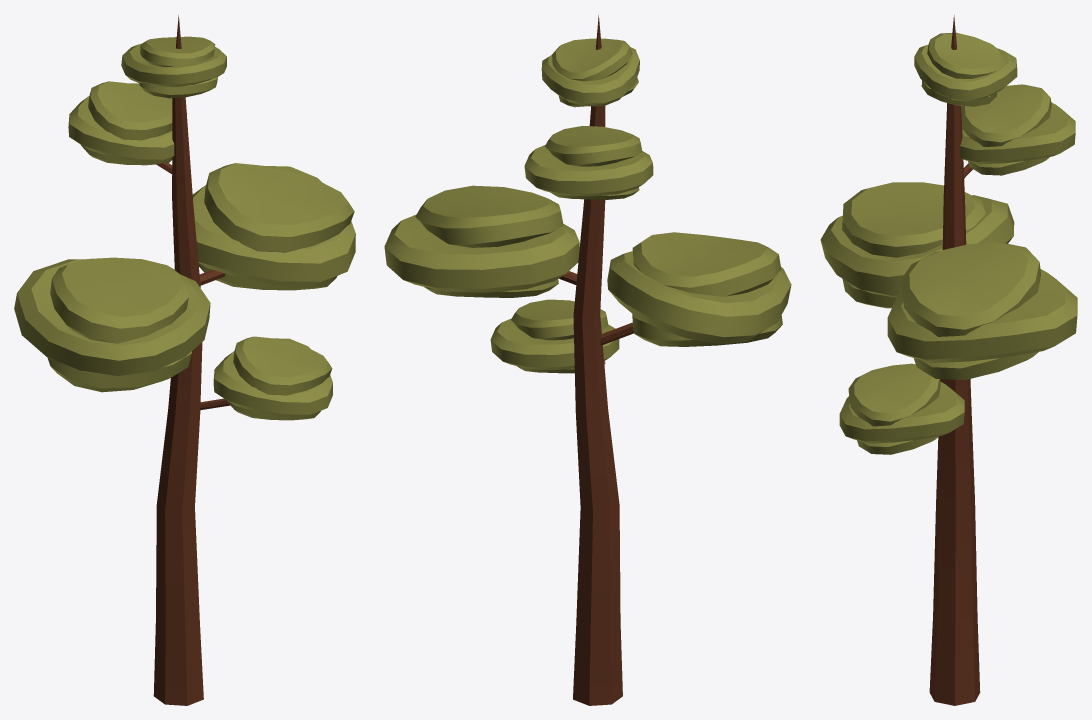
The model's file is TallPine.fbx.
The picture shows the model from 3 angles, left to right: view 1: azimuth 30°, elevation 25°; view 2: azimuth 150°, elevation 25°; view 3: azimuth 270°, elevation 25°; orthographic projection.
Parts seen in each view (by area): view 1: TallPine; view 2: TallPine; view 3: TallPine.
Boxes of the visible parts, bbox=[...] form: TallPine: bbox=[14, 15, 355, 705]; TallPine: bbox=[384, 15, 791, 705]; TallPine: bbox=[820, 15, 1077, 705].
Size of the model in its own units: 12.52 by 24.53 by 8.4.
Materials: 1 (1 with a texture image).
